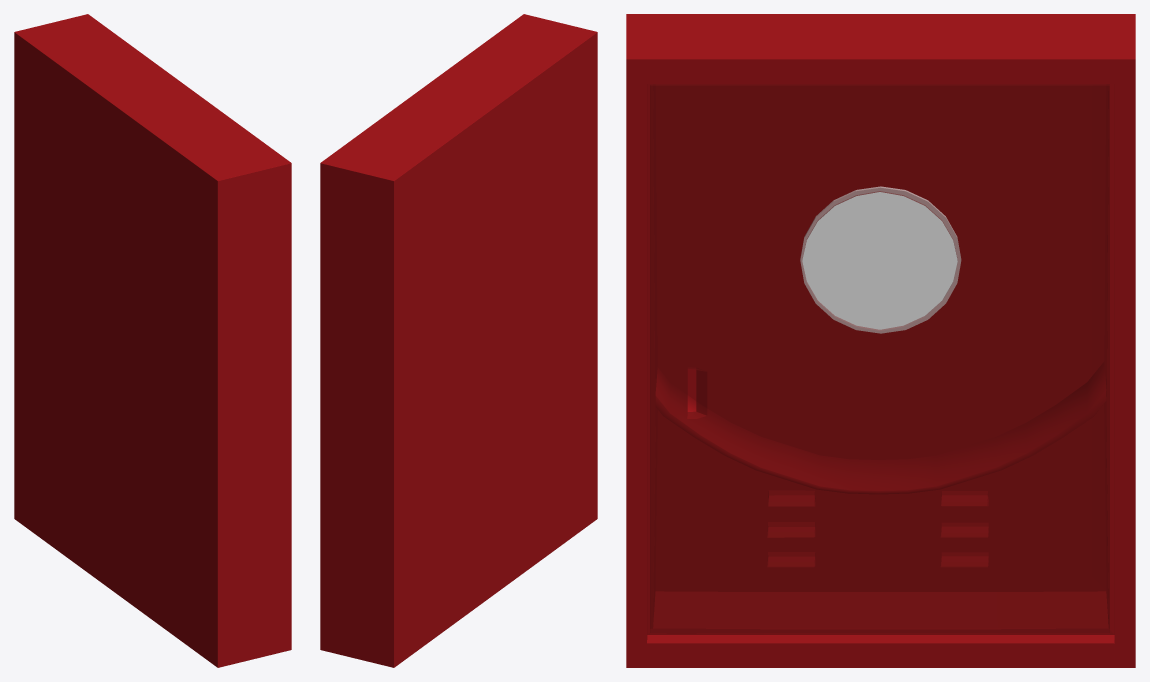
Rendered from caixa de mangueira fechada.fbx.
The picture shows the model from 3 angles, left to right: view 1: azimuth 30°, elevation 25°; view 2: azimuth 150°, elevation 25°; view 3: azimuth 270°, elevation 25°; orthographic projection. The views are drawn at different scales.
Visible parts, largest first — view 1: Plano; view 2: Plano; view 3: Plano, tampa, vidro.
Boxes of the visible parts, x1,y1,x2,y2 form: Plano: (14, 14, 291, 667); Plano: (320, 14, 597, 667); Plano: (626, 14, 1135, 667); tampa: (650, 84, 1109, 633); vidro: (800, 186, 961, 333).
Bounding box in the file's own units: 88.66 × 558 × 423.
